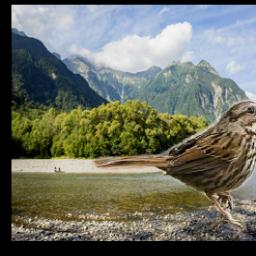Sparrow: (92, 99, 256, 231)
